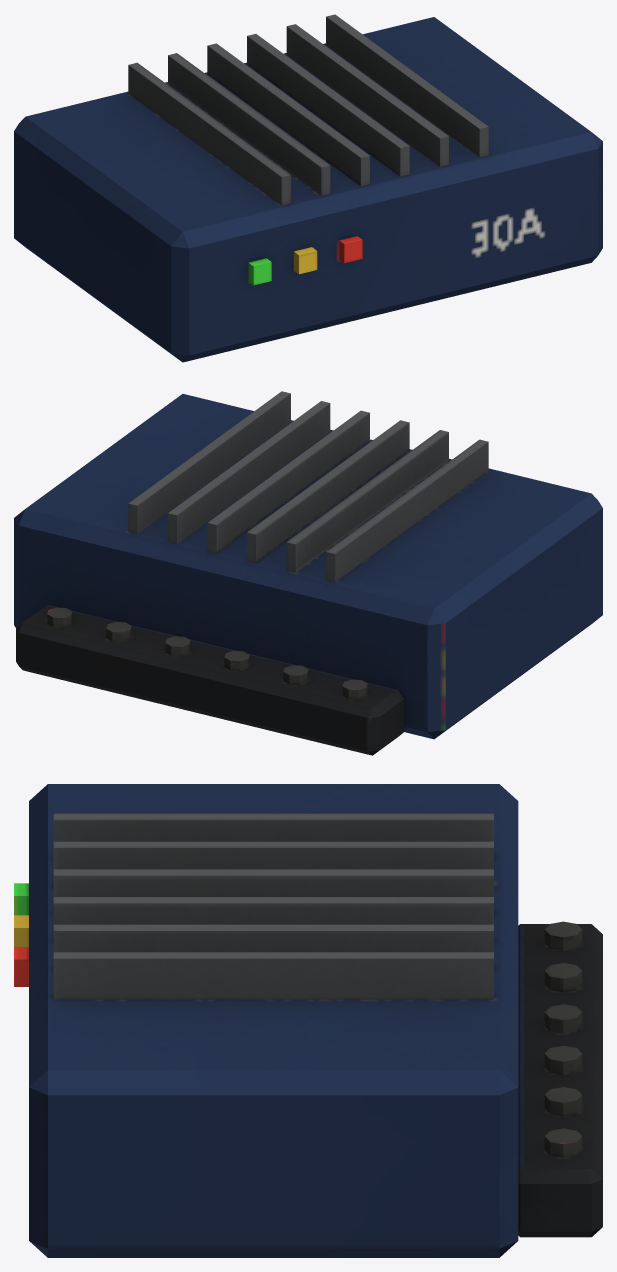
File: RenewableEnergy_ChargeController.fbx
3 views of the same model, one above another, from view 1: azimuth 30°, elevation 25°; view 2: azimuth 150°, elevation 25°; view 3: azimuth 270°, elevation 25° (orthographic). The views are drawn at different scales.
Visible parts, largest first — view 1: ChargeController; view 2: ChargeController; view 3: ChargeController.
Boxes of the visible parts, box(x1,y1,x2,y2) form: ChargeController: box(14, 14, 602, 362); ChargeController: box(14, 391, 602, 755); ChargeController: box(14, 784, 602, 1257).
Size of the model in its own units: 0.19 by 0.067 by 0.1565.
